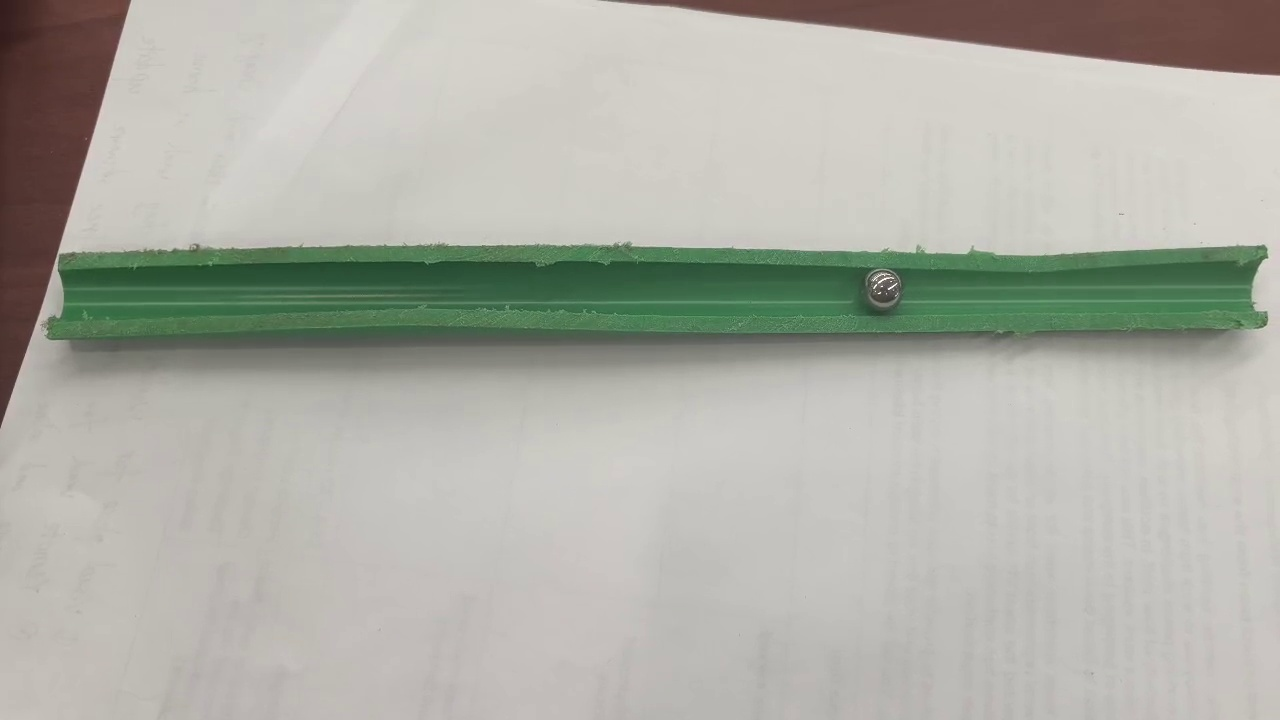ball: (866, 269, 902, 310)
